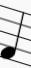F: (1, 2, 25, 66)
